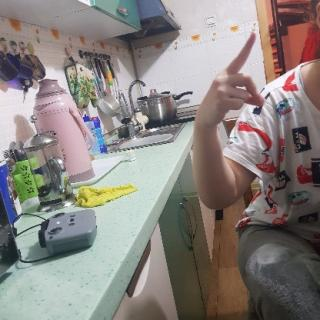TAA: (190, 28, 268, 137)
